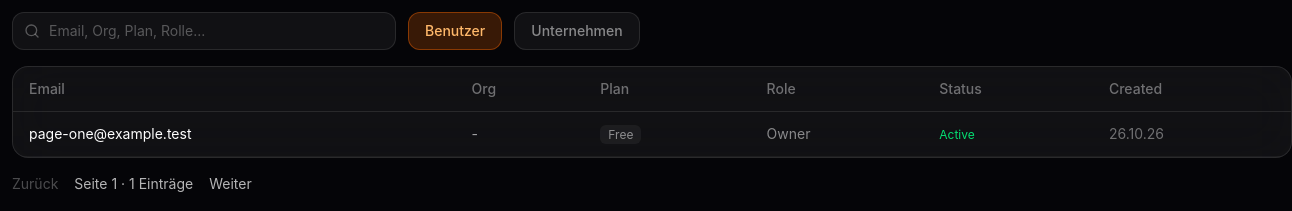
Scenario: loads the next page, searches across pages and resets offset for organizations
This screenshot has width=1292, height=211.
Check: the text "page-one@example.test" is shown, box [13, 112, 456, 156]
Click the button "Weiter". click: (230, 184)
box: [209, 174, 252, 194]
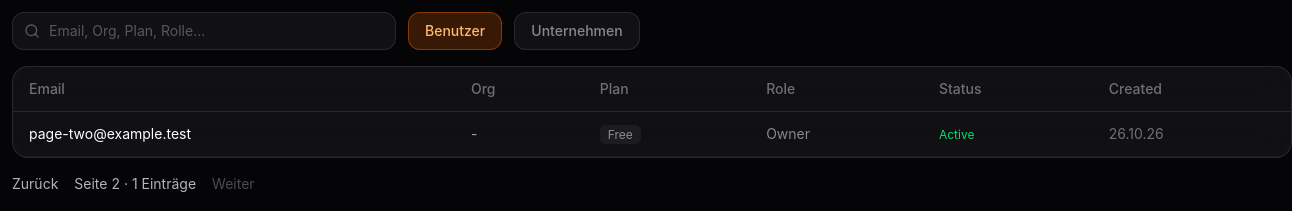
Check: the text "page-two@example.test" is shown, box [13, 112, 455, 156]
Check: the button "Weiter" is disabled, box [212, 174, 255, 194]
Type "needle" into the field with placeholder "Email, Org, Plan, Rolle...". click: (204, 31)
box: [12, 12, 396, 50]
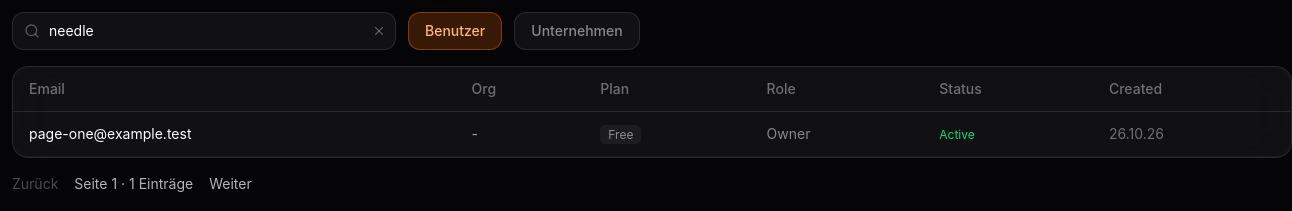
Click the button "Unternehmen". click: (577, 31)
box: [514, 12, 640, 50]
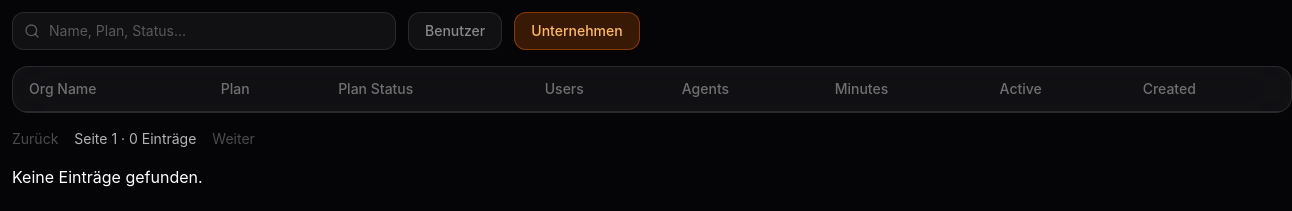
Check: the text "Keine Einträge gefunden." is shown, box [12, 167, 203, 187]
